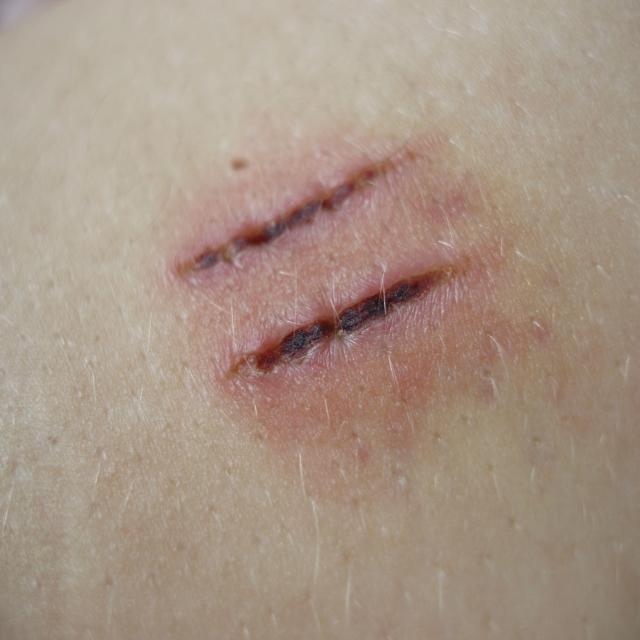Cut: (180, 152, 402, 280), (232, 266, 460, 378)
